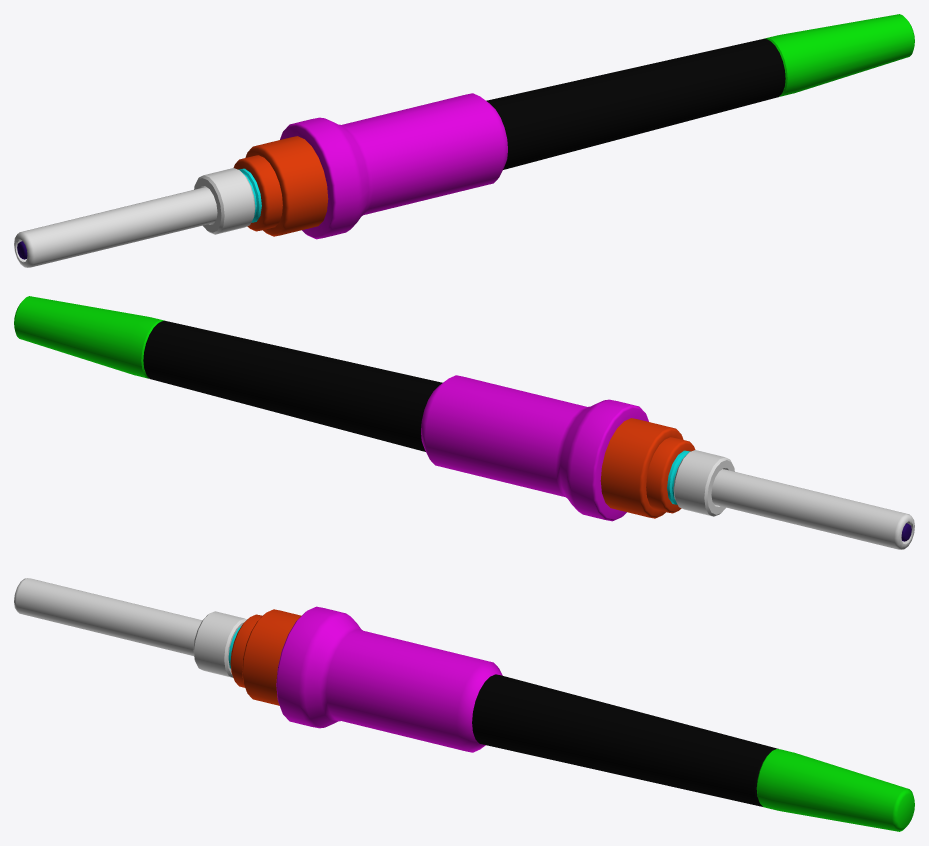
File: Паяльник без насадок.fbx
3 renders of one model, top to bottom at view 1: azimuth 30°, elevation 25°; view 2: azimuth 150°, elevation 25°; view 3: azimuth 330°, elevation 25°, orthographic.
Visible parts, largest first — view 1: Payalnik_main_korpus, Zajim_for_nasadki_TRANSLATE_THIS, Stopornay_ring_TRANSLATE_and_ROTATE_THIS; view 2: Payalnik_main_korpus, Zajim_for_nasadki_TRANSLATE_THIS, Stopornay_ring_TRANSLATE_and_ROTATE_THIS; view 3: Payalnik_main_korpus, Zajim_for_nasadki_TRANSLATE_THIS, Stopornay_ring_TRANSLATE_and_ROTATE_THIS.
Boxes of the visible parts, x1=… form: Payalnik_main_korpus: x1=17, y1=14, x2=914, y2=259; Zajim_for_nasadki_TRANSLATE_THIS: x1=14, y1=187, x2=217, y2=267; Stopornay_ring_TRANSLATE_and_ROTATE_THIS: x1=194, y1=168, x2=255, y2=234; Payalnik_main_korpus: x1=14, y1=296, x2=911, y2=541; Zajim_for_nasadki_TRANSLATE_THIS: x1=711, y1=469, x2=914, y2=549; Stopornay_ring_TRANSLATE_and_ROTATE_THIS: x1=673, y1=450, x2=734, y2=516; Payalnik_main_korpus: x1=228, y1=606, x2=914, y2=831; Zajim_for_nasadki_TRANSLATE_THIS: x1=14, y1=578, x2=202, y2=655; Stopornay_ring_TRANSLATE_and_ROTATE_THIS: x1=193, y1=611, x2=246, y2=677.
Size of the model in its own units: 21.83 by 2.55 by 2.55.
